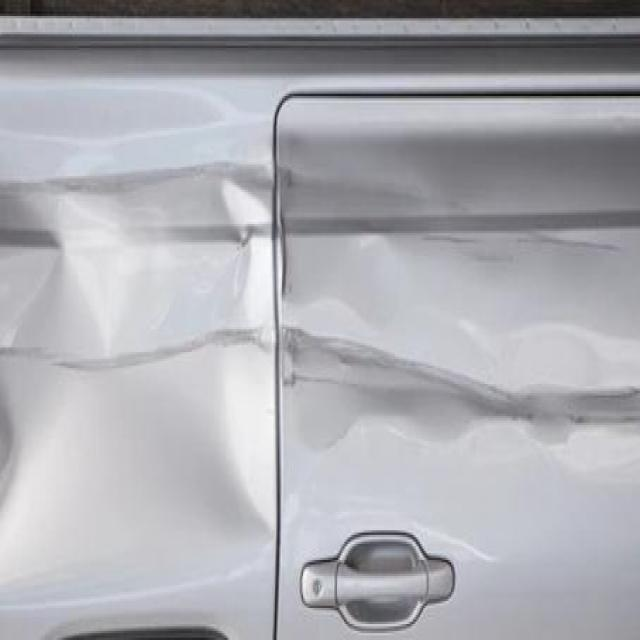dent: (316, 226, 640, 524), (5, 138, 287, 463)
